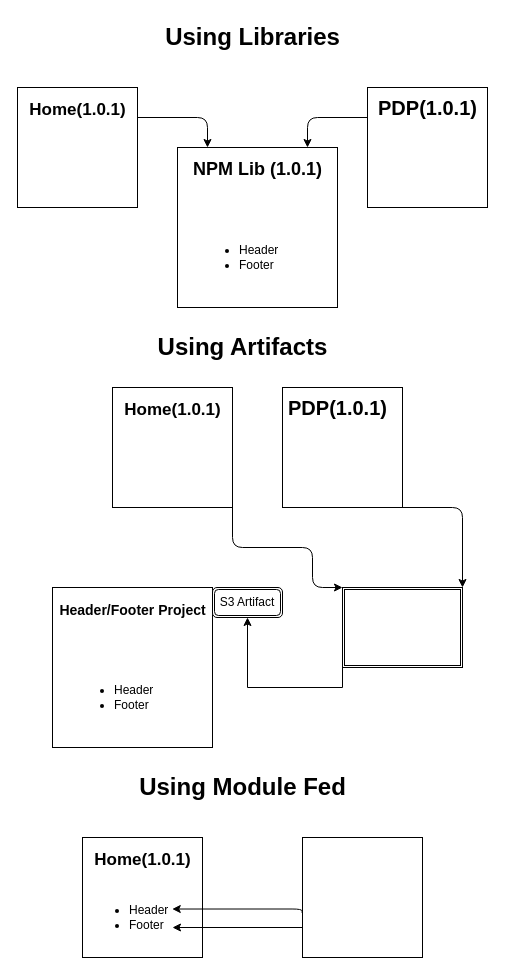
This 505x975 diagram has some shape labels left out. The shapes that lost their labels are listed below. From the top down, each one's centre as x and y in pixels, then its label:
At [402,627]: "Shim Library".
At [362,897]: "PDP(1.0.0)".
